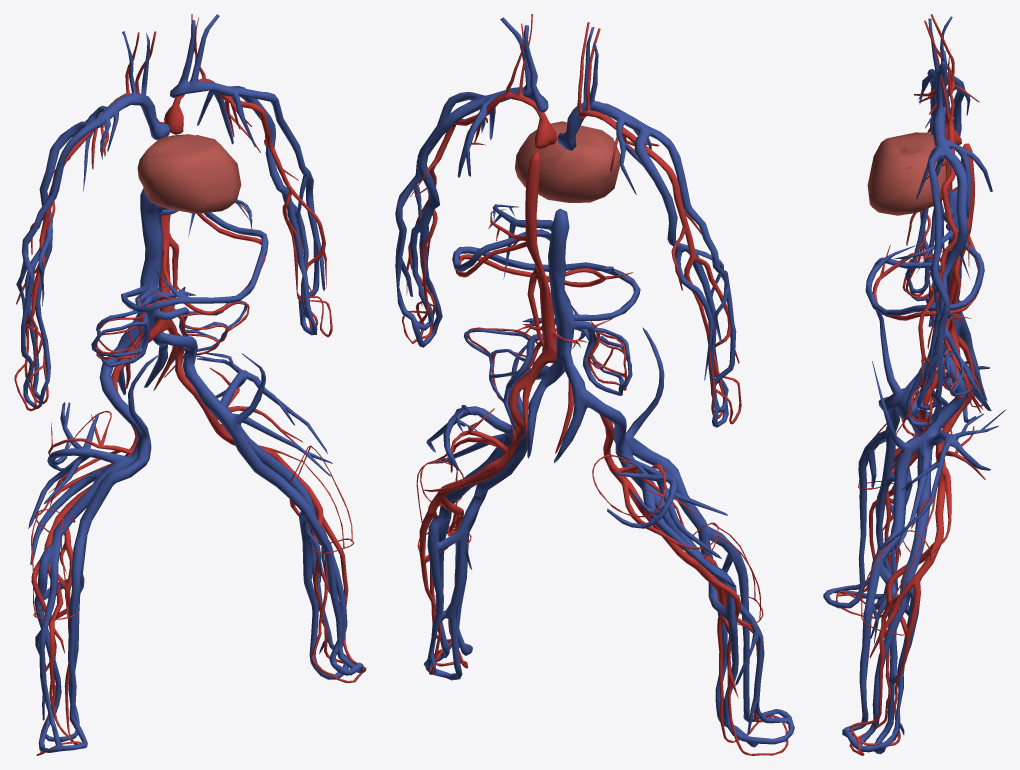
The model's file is pediatric_neonate_male.cardiovascular.LOD2.glb.
The picture shows the model from 3 angles, left to right: view 1: azimuth 30°, elevation 25°; view 2: azimuth 150°, elevation 25°; view 3: azimuth 270°, elevation 25°; orthographic projection. The views are drawn at different scales.
Visible parts, largest first — view 1: PEDIATRIC.NEONATE.MALE.CARDIOVASCULAR.BLOOD_IN_LARGE_VEINS, PEDIATRIC.NEONATE.MALE.CARDIOVASCULAR.BLOOD_IN_LARGE_ARTERIE, PEDIATRIC.NEONATE.MALE.CARDIOVASCULAR.HEART_WALL; view 2: PEDIATRIC.NEONATE.MALE.CARDIOVASCULAR.BLOOD_IN_LARGE_VEINS, PEDIATRIC.NEONATE.MALE.CARDIOVASCULAR.BLOOD_IN_LARGE_ARTERIE, PEDIATRIC.NEONATE.MALE.CARDIOVASCULAR.HEART_WALL; view 3: PEDIATRIC.NEONATE.MALE.CARDIOVASCULAR.BLOOD_IN_LARGE_VEINS, PEDIATRIC.NEONATE.MALE.CARDIOVASCULAR.BLOOD_IN_LARGE_ARTERIE, PEDIATRIC.NEONATE.MALE.CARDIOVASCULAR.HEART_WALL.
Part boxes in pixels (left/top/right/bottom): PEDIATRIC.NEONATE.MALE.CARDIOVASCULAR.BLOOD_IN_LARGE_VEINS: left=16, top=14, right=363, bottom=752; PEDIATRIC.NEONATE.MALE.CARDIOVASCULAR.BLOOD_IN_LARGE_ARTERIE: left=14, top=14, right=366, bottom=755; PEDIATRIC.NEONATE.MALE.CARDIOVASCULAR.HEART_WALL: left=137, top=134, right=241, bottom=213; PEDIATRIC.NEONATE.MALE.CARDIOVASCULAR.BLOOD_IN_LARGE_VEINS: left=395, top=17, right=794, bottom=747; PEDIATRIC.NEONATE.MALE.CARDIOVASCULAR.BLOOD_IN_LARGE_ARTERIE: left=402, top=14, right=788, bottom=755; PEDIATRIC.NEONATE.MALE.CARDIOVASCULAR.HEART_WALL: left=515, top=121, right=620, bottom=202; PEDIATRIC.NEONATE.MALE.CARDIOVASCULAR.BLOOD_IN_LARGE_VEINS: left=823, top=16, right=1005, bottom=754; PEDIATRIC.NEONATE.MALE.CARDIOVASCULAR.BLOOD_IN_LARGE_ARTERIE: left=835, top=14, right=985, bottom=755; PEDIATRIC.NEONATE.MALE.CARDIOVASCULAR.HEART_WALL: left=867, top=132, right=952, bottom=215.
Size of the model in its own units: 0.1943 by 0.3766 by 0.0947.
